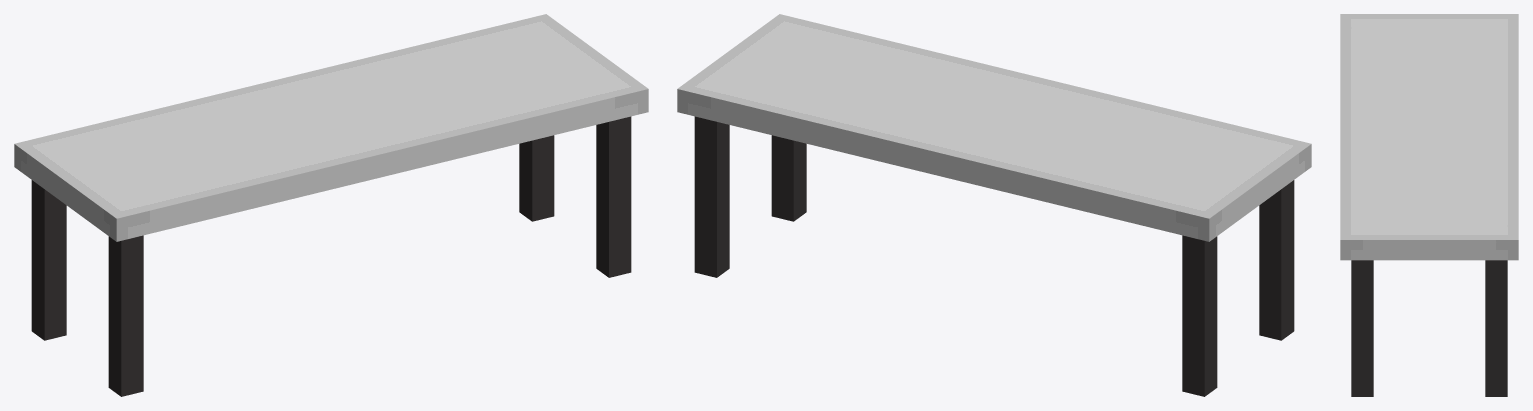
The model's file is white generic table.gltf.
3 views of the same model, side by side, from view 1: azimuth 30°, elevation 25°; view 2: azimuth 150°, elevation 25°; view 3: azimuth 270°, elevation 25° (orthographic). The views are drawn at different scales.
Parts seen in each view (by area): view 1: cube (×5); view 2: cube (×5); view 3: cube (×3).
Part boxes in pixels (x1,y1,x2,y2): cube (×5): (14, 14, 648, 396); cube (×5): (677, 14, 1311, 396); cube (×3): (1340, 14, 1518, 396).
Size of the model in its own units: 3 by 1 by 1.
1 material, 1 textured.
